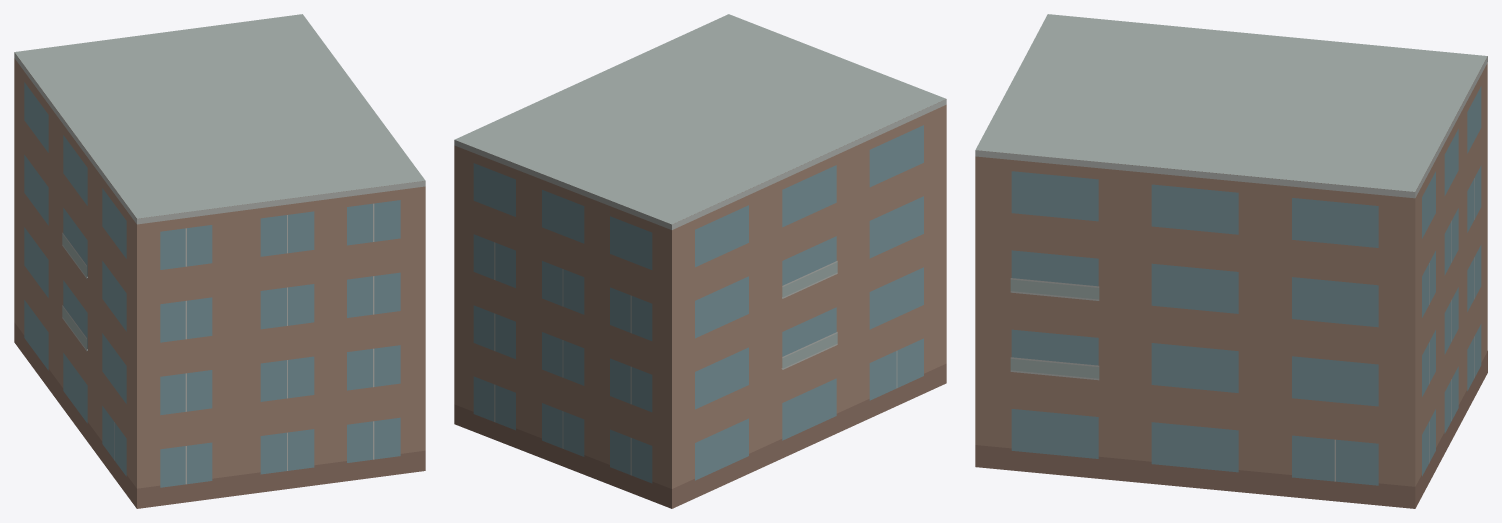
Rendered from residential-b352155b-ff9e-40be-9cb3-252d3161a99e.glb.
3 views of the same model, side by side, from view 1: azimuth 30°, elevation 25°; view 2: azimuth 150°, elevation 25°; view 3: azimuth 270°, elevation 25° (orthographic). The views are drawn at different scales.
Parts seen in each view (by area): view 1: residential-b352155b-ff9e-40be-9cb3-252d3161a99e.tmp; view 2: residential-b352155b-ff9e-40be-9cb3-252d3161a99e.tmp; view 3: residential-b352155b-ff9e-40be-9cb3-252d3161a99e.tmp.
Boxes of the visible parts, x1,y1,x2,y2 form: residential-b352155b-ff9e-40be-9cb3-252d3161a99e.tmp: (14,14,425,508); residential-b352155b-ff9e-40be-9cb3-252d3161a99e.tmp: (454,14,946,508); residential-b352155b-ff9e-40be-9cb3-252d3161a99e.tmp: (975,14,1487,508).
Bounding box in the file's own units: 14.71 × 12.2 × 17.89.
